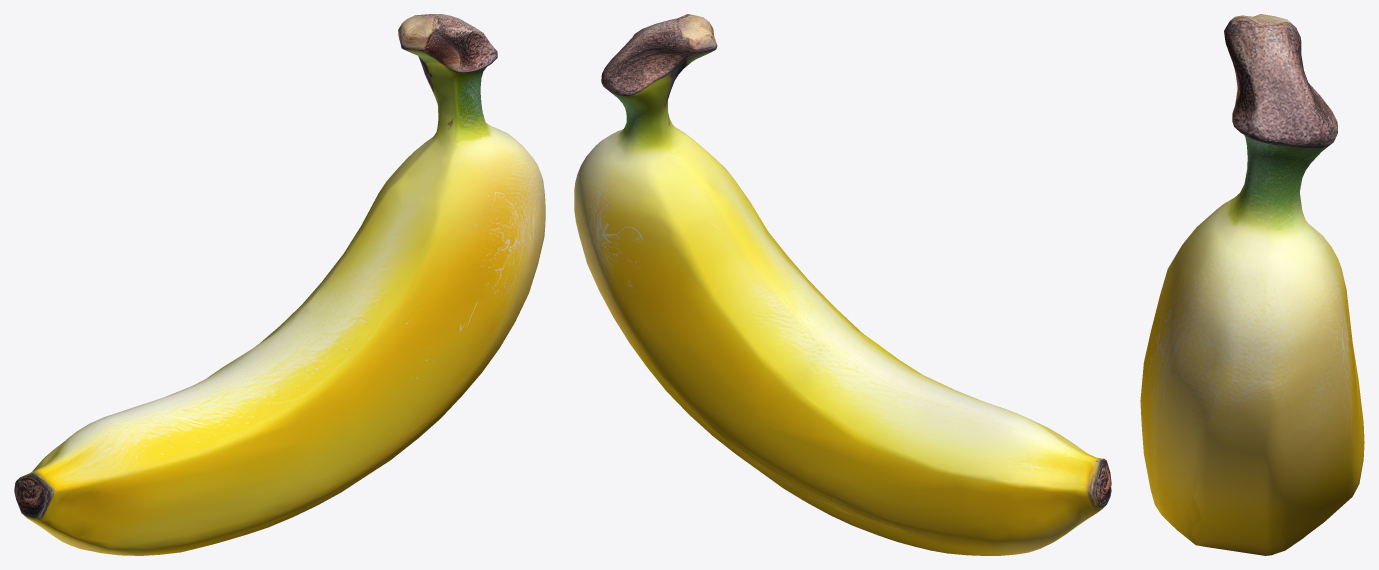
File: banana.glb
3 views of the same model, side by side, from view 1: azimuth 30°, elevation 25°; view 2: azimuth 150°, elevation 25°; view 3: azimuth 270°, elevation 25° (orthographic). The views are drawn at different scales.
Parts seen in each view (by area): view 1: mesh_input_0; view 2: mesh_input_0; view 3: mesh_input_0.
Part boxes in pixels (x1=…): mesh_input_0: x1=14, y1=14, x2=545, y2=555; mesh_input_0: x1=574, y1=14, x2=1111, y2=555; mesh_input_0: x1=1140, y1=14, x2=1364, y2=555.
Bounding box in the file's own units: 0.1734 × 0.1492 × 0.0469.
1 material, 1 textured.
